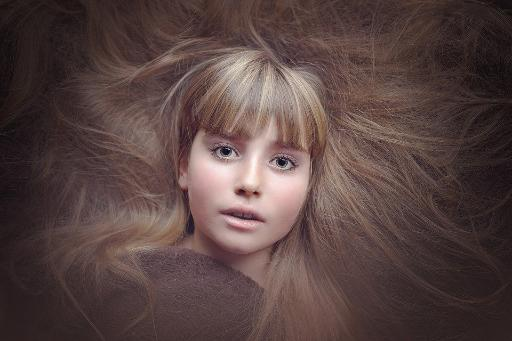left_eye: (270, 156, 300, 172)
left_lip_corner: (262, 218, 273, 228)
right_eye: (211, 146, 243, 162)
right_lip_corner: (217, 210, 228, 221)
